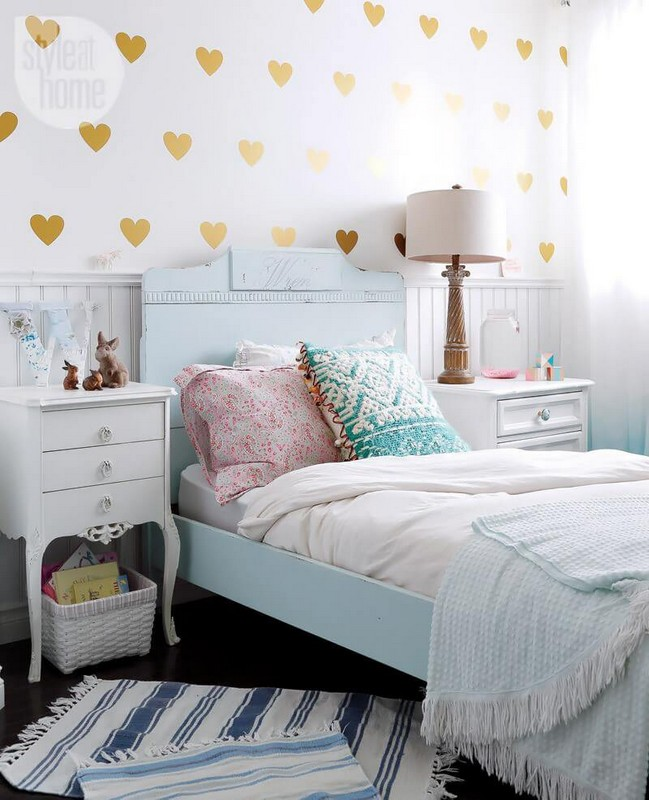bed: (146, 248, 648, 795)
lamp: (404, 183, 509, 380)
stool: (5, 373, 182, 674), (427, 368, 602, 477)
